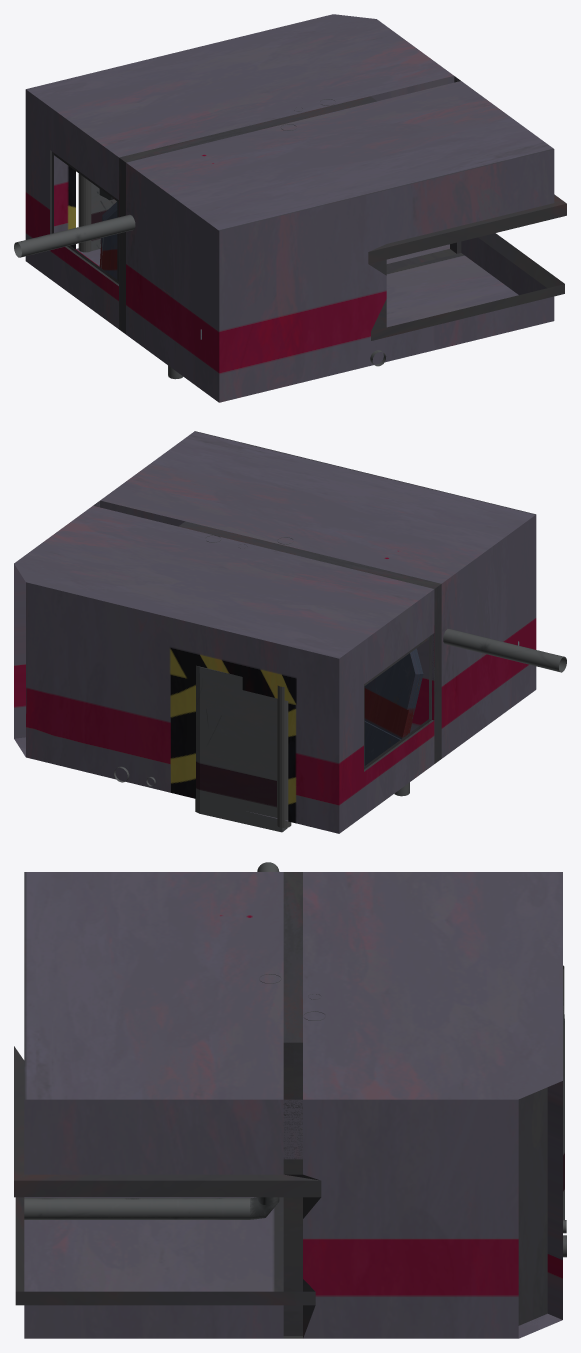
Rendered from SPACEFINAL.fbx.
3 views of the same model, one above another, from view 1: azimuth 30°, elevation 25°; view 2: azimuth 150°, elevation 25°; view 3: azimuth 270°, elevation 25° (orthographic). The views are drawn at different scales.
Visible parts, largest first — view 1: MAIN BUILDING, METAL PIPE FALLING 3.003, Cube, Cylinder, DOORSPACE; view 2: MAIN BUILDING, DOORSPACE, Cube, METAL PIPE FALLING 3.003, Cylinder; view 3: MAIN BUILDING, METAL PIPE FALLING 3.
Part boxes in pixels (x1=…): MAIN BUILDING: x1=25, y1=14, x2=566, y2=402; METAL PIPE FALLING 3.003: x1=14, y1=214, x2=183, y2=379; Cube: x1=99, y1=201, x2=117, y2=279; Cylinder: x1=78, y1=173, x2=91, y2=252; DOORSPACE: x1=91, y1=183, x2=116, y2=250; MAIN BUILDING: x1=14, y1=431, x2=536, y2=833; DOORSPACE: x1=195, y1=665, x2=287, y2=832; Cube: x1=364, y1=648, x2=423, y2=765; METAL PIPE FALLING 3.003: x1=394, y1=629, x2=566, y2=796; Cylinder: x1=277, y1=685, x2=291, y2=827; MAIN BUILDING: x1=14, y1=872, x2=562, y2=1338; METAL PIPE FALLING 3: x1=24, y1=974, x2=280, y2=1219.
Size of the model in its own units: 617 by 284 by 464.
